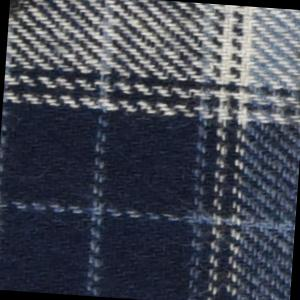Stain: (10, 1, 36, 21), (294, 34, 300, 68), (294, 79, 300, 112)
